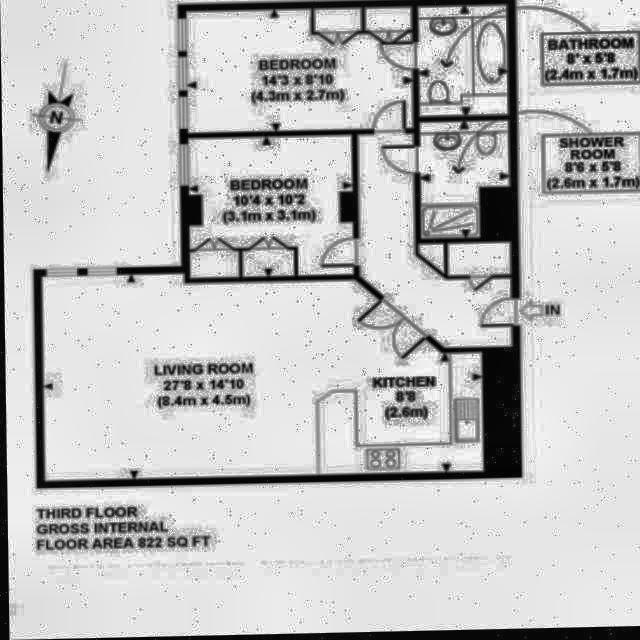room: (39, 268, 483, 482), (357, 132, 512, 352), (186, 8, 414, 133), (187, 136, 354, 279), (416, 6, 510, 120), (420, 123, 510, 240), (446, 243, 512, 278), (416, 244, 444, 276)
